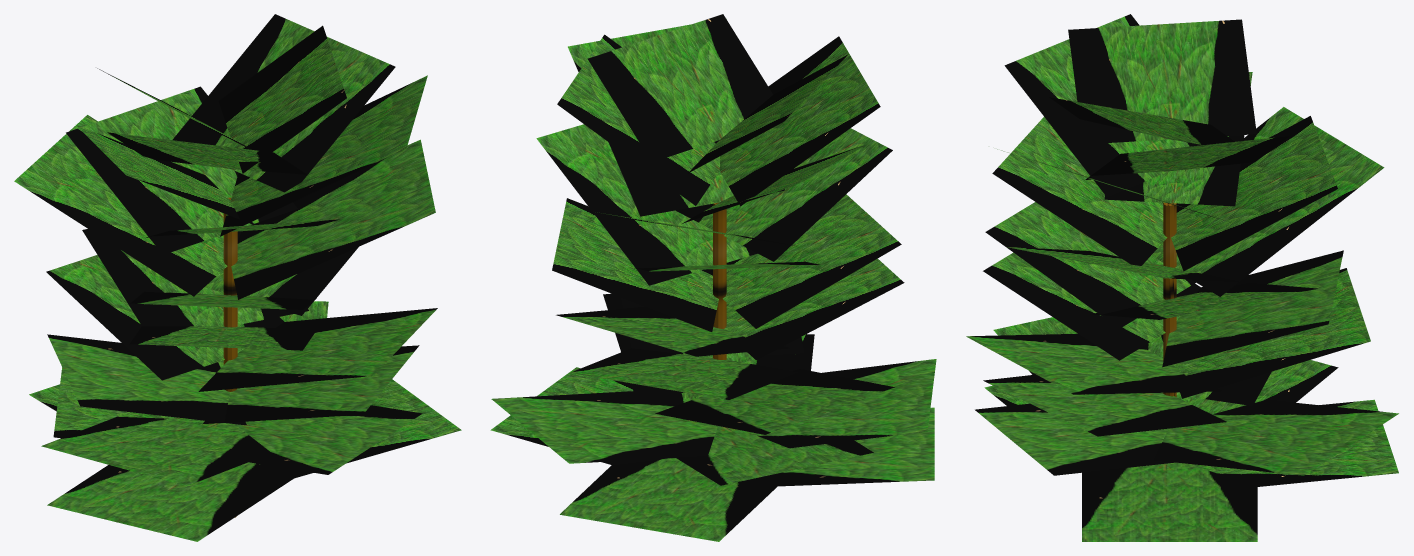
File: small tree 2.fbx
The picture shows the model from 3 angles, left to right: view 1: azimuth 30°, elevation 25°; view 2: azimuth 150°, elevation 25°; view 3: azimuth 270°, elevation 25°; orthographic projection.
Visible parts, largest first — view 1: SPunk_Blad1, SP_Stam5; view 2: SPunk_Blad1, SP_Stam5; view 3: SPunk_Blad1, SP_Stam5.
Part boxes in pixels (box(x1,y1,x2,y2)): SPunk_Blad1: box(14, 14, 461, 541); SP_Stam5: box(223, 197, 237, 517); SPunk_Blad1: box(490, 14, 936, 541); SP_Stam5: box(713, 202, 726, 359); SPunk_Blad1: box(966, 14, 1398, 541); SP_Stam5: box(1163, 202, 1176, 396).
Size of the model in its own units: 129 by 142 by 124.
